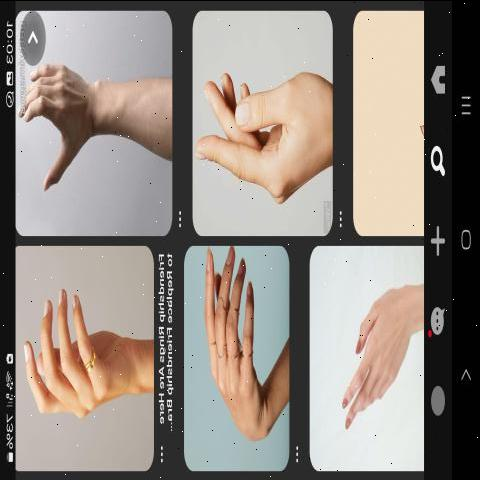Hands: (6, 48, 166, 216), (309, 267, 423, 464), (193, 66, 341, 211), (185, 244, 286, 450), (16, 282, 154, 431)
